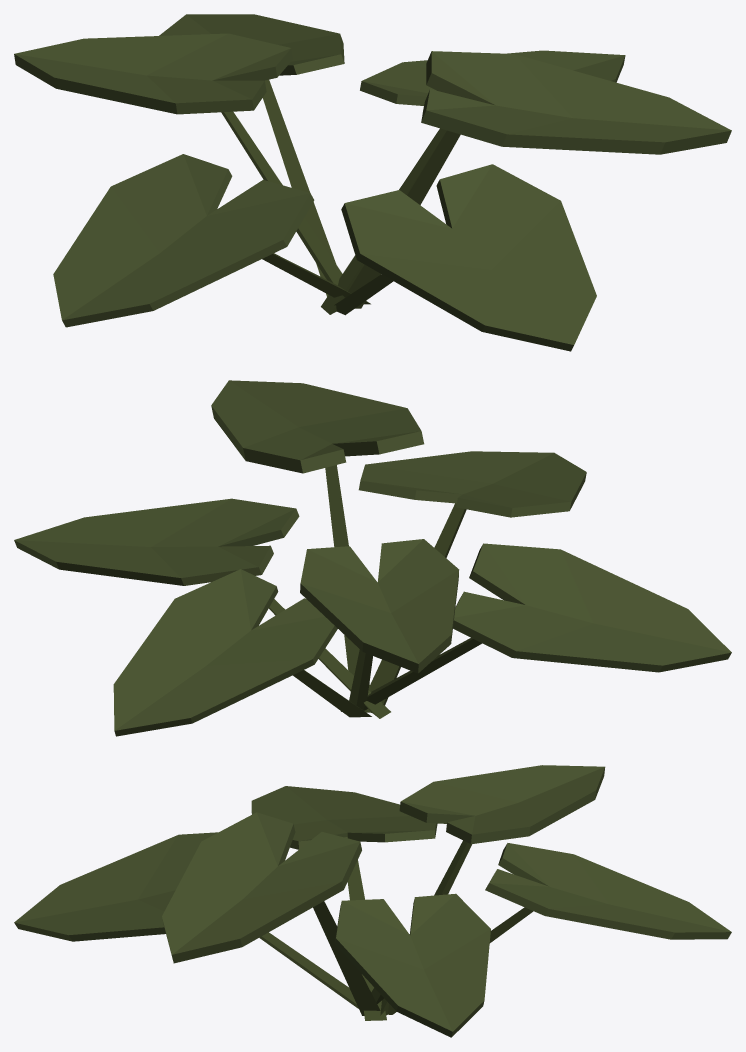
File: SM_Env_Plants_02.glb
3 views of the same model, one above another, from view 1: azimuth 30°, elevation 25°; view 2: azimuth 150°, elevation 25°; view 3: azimuth 270°, elevation 25° (orthographic). The views are drawn at different scales.
Visible parts, largest first — view 1: SM_Env_Plants_02; view 2: SM_Env_Plants_02; view 3: SM_Env_Plants_02.
Part boxes in pixels (x1,y1,x2,y2): SM_Env_Plants_02: (14,14,731,351); SM_Env_Plants_02: (14,380,731,736); SM_Env_Plants_02: (14,765,731,1037).
Bounding box in the file's own units: 0.0169 × 0.00595 × 0.0189.
